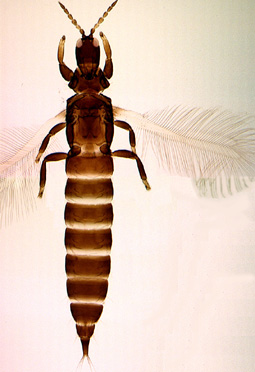Phlaeothripidae: (1, 1, 251, 370)
